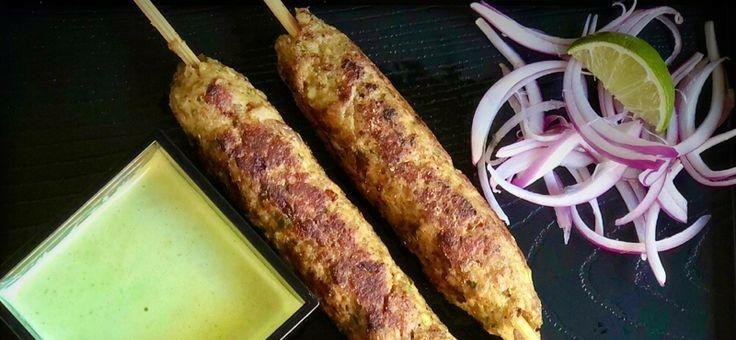GreenChutney: (0, 147, 305, 340)
Kebab: (276, 9, 542, 340), (170, 56, 458, 340)
